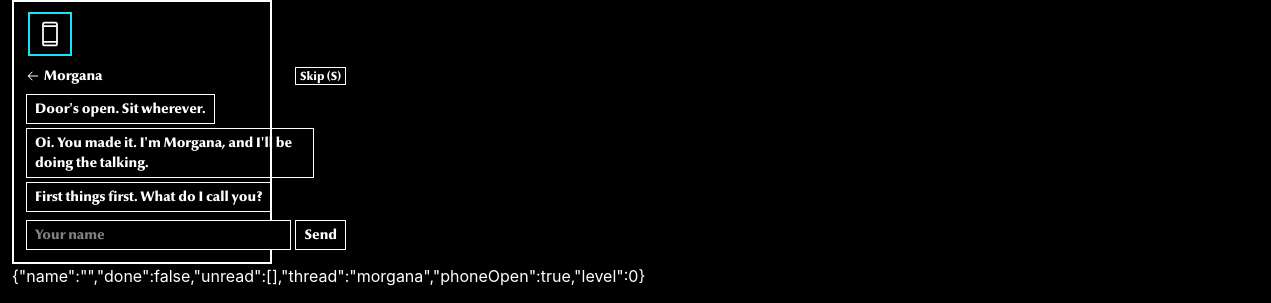
Test case: PhoneWidget › onboarding › can be skipped from the thread, and the skip button goes away
The width and height of the screenshot is (1271, 303).
Click the button "Skip (S)" at (320, 76), box [295,67,346,85]
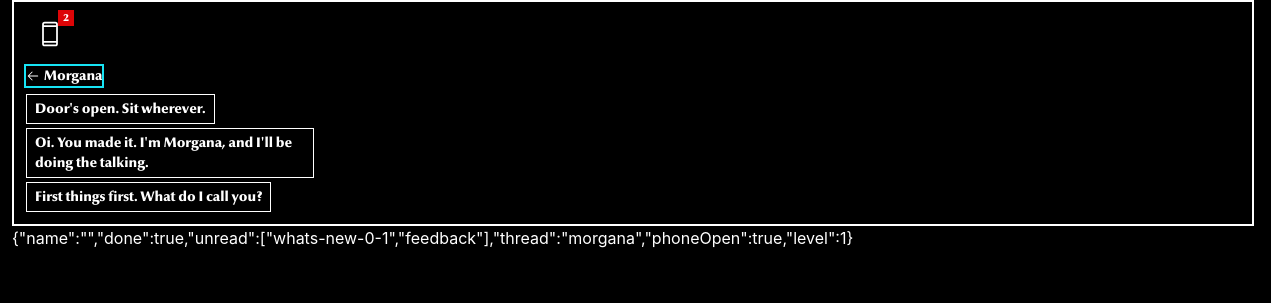
expect the element "Morgana" is shown: met, box [26,94,346,212]
expect the button "Skip (S)" is gone: met
